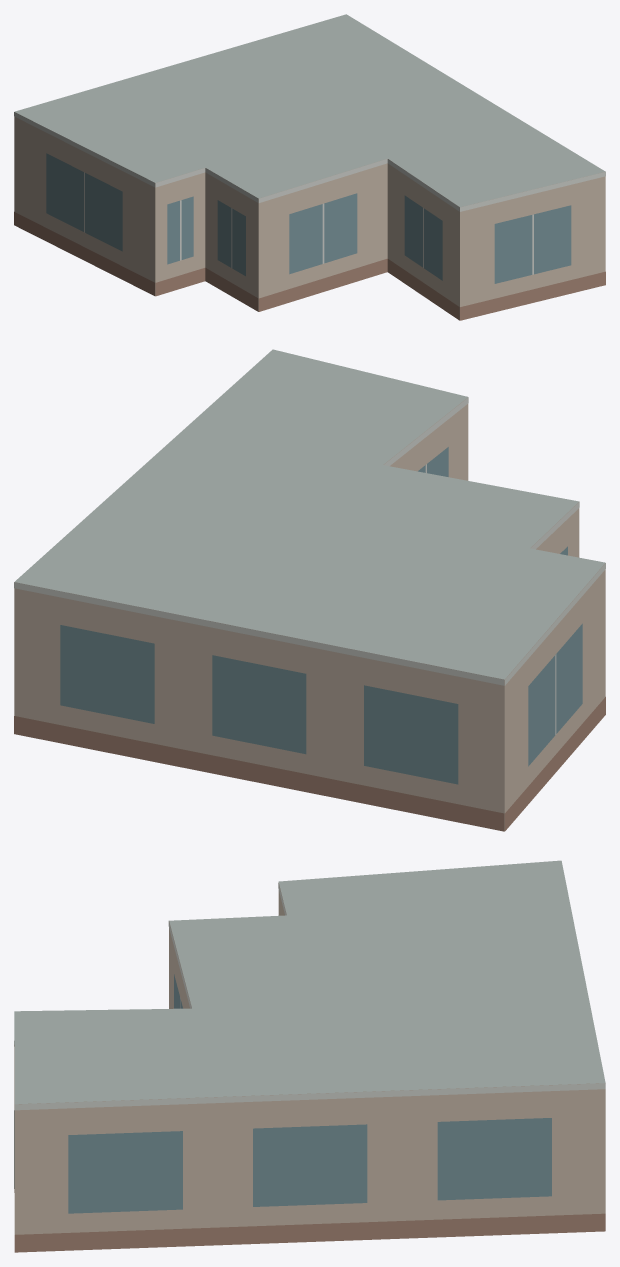
The model's file is survey-upis-32734794.glb.
3 renders of one model, top to bottom at view 1: azimuth 30°, elevation 25°; view 2: azimuth 150°, elevation 25°; view 3: azimuth 270°, elevation 25°, orthographic. The views are drawn at different scales.
Visible parts, largest first — view 1: survey-upis-32734794.tmp; view 2: survey-upis-32734794.tmp; view 3: survey-upis-32734794.tmp.
Boxes of the visible parts, x1,y1,x2,y2 form: survey-upis-32734794.tmp: (14, 14, 605, 320); survey-upis-32734794.tmp: (14, 349, 605, 831); survey-upis-32734794.tmp: (14, 860, 605, 1252).
Size of the model in its own units: 10.77 by 3.05 by 11.04.
